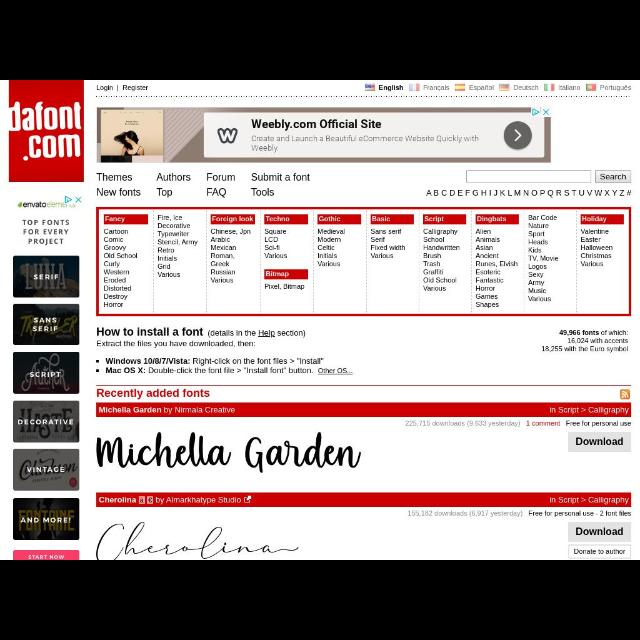icon: (244, 496, 252, 504), (94, 368, 100, 372), (95, 360, 99, 364)
iframe: (12, 196, 82, 558), (96, 108, 552, 162)
image: (96, 432, 362, 474), (8, 80, 84, 182), (96, 522, 300, 560), (620, 388, 630, 399), (409, 83, 421, 91), (544, 83, 556, 91), (585, 83, 597, 91), (364, 85, 376, 92), (500, 83, 510, 91), (454, 84, 466, 90)
input: (466, 170, 592, 184)
multitab: (102, 213, 624, 309), (96, 172, 310, 198), (95, 83, 632, 93), (426, 190, 632, 198)
text: (106, 358, 354, 376), (96, 328, 306, 348), (476, 228, 518, 308), (527, 215, 559, 303), (104, 228, 138, 308), (158, 216, 198, 278), (424, 228, 461, 292), (210, 228, 252, 282), (542, 330, 630, 354), (405, 420, 631, 428), (408, 510, 632, 518), (426, 189, 632, 197), (98, 496, 242, 506), (580, 228, 614, 268), (316, 228, 346, 268), (96, 389, 210, 399), (98, 406, 235, 414), (370, 229, 406, 259), (548, 496, 630, 506), (549, 406, 629, 416), (264, 228, 288, 260), (252, 172, 310, 182), (96, 188, 142, 198), (95, 84, 148, 92), (575, 438, 623, 446), (576, 528, 624, 536), (96, 172, 132, 182), (212, 215, 254, 223), (264, 283, 306, 291), (574, 549, 626, 555), (156, 174, 190, 182), (206, 187, 227, 199), (207, 173, 236, 181), (478, 216, 507, 224), (600, 85, 632, 92), (156, 187, 174, 199), (424, 84, 450, 92), (581, 216, 607, 224), (470, 84, 494, 92), (250, 188, 274, 196), (265, 270, 289, 278), (318, 216, 342, 224), (513, 85, 539, 92), (600, 173, 626, 180), (424, 215, 446, 223), (266, 215, 290, 222), (105, 216, 125, 224), (378, 86, 404, 92), (371, 215, 391, 222), (558, 85, 580, 91)
textbutton: (568, 522, 632, 542), (568, 433, 632, 451), (568, 546, 632, 558), (594, 170, 632, 184)
